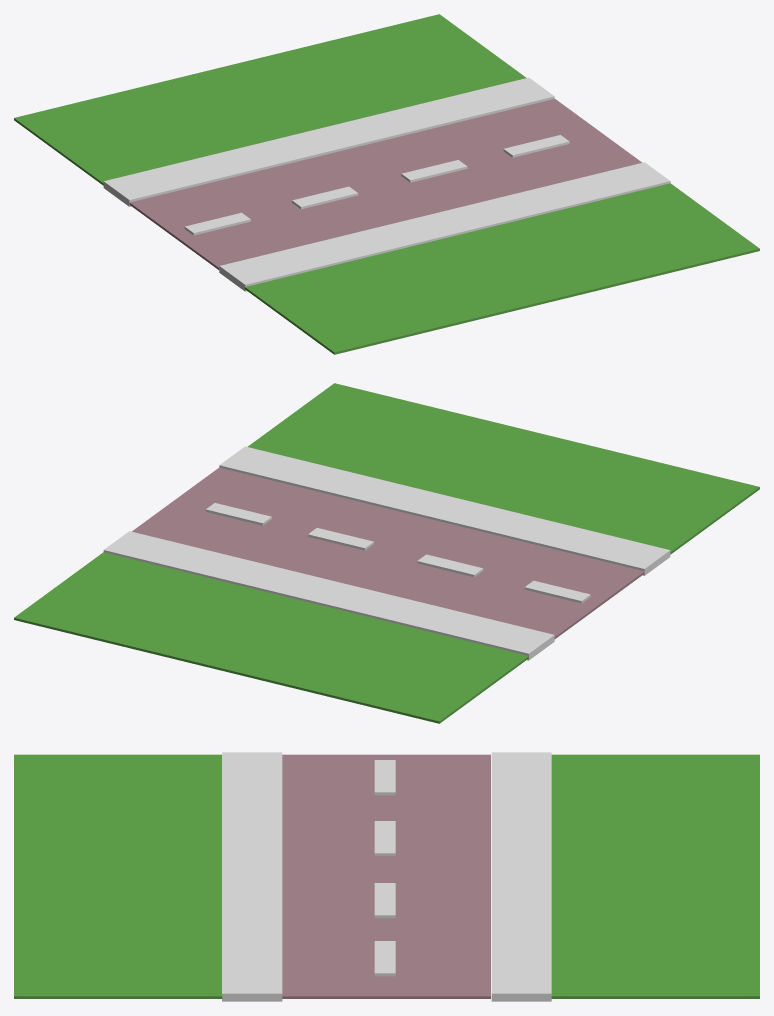
The model's file is road.fbx.
3 views of the same model, one above another, from view 1: azimuth 30°, elevation 25°; view 2: azimuth 150°, elevation 25°; view 3: azimuth 270°, elevation 25° (orthographic). The views are drawn at different scales.
Visible parts, largest first — view 1: Cube.016, Cube.015, Cube, Cube.009, Cube.010, Cube.014, Cube.001, Cube.011, Cube.013; view 2: Cube.015, Cube.016, Cube, Cube.010, Cube.009, Cube.013, Cube.001, Cube.011, Cube.014; view 3: Cube.015, Cube.016, Cube, Cube.009, Cube.010, Cube.013, Cube.014, Cube.001, Cube.011.
Part boxes in pixels (left/top/right/bottom): Cube.016: left=245, top=183, right=759, bottom=354; Cube.015: left=14, top=14, right=526, bottom=185; Cube: left=129, top=99, right=642, bottom=269; Cube.009: left=103, top=77, right=554, bottom=206; Cube.010: left=219, top=162, right=670, bottom=291; Cube.014: left=401, top=160, right=467, bottom=182; Cube.001: left=184, top=212, right=250, bottom=235; Cube.011: left=292, top=186, right=358, bottom=209; Cube.013: left=503, top=135, right=569, bottom=157; Cube.015: left=14, top=552, right=528, bottom=723; Cube.016: left=247, top=383, right=759, bottom=554; Cube: left=132, top=467, right=644, bottom=638; Cube.010: left=219, top=446, right=670, bottom=575; Cube.009: left=103, top=531, right=554, bottom=660; Cube.013: left=205, top=503, right=271, bottom=525; Cube.001: left=524, top=580, right=590, bottom=603; Cube.011: left=417, top=554, right=483, bottom=577; Cube.014: left=308, top=528, right=373, bottom=550; Cube.015: left=551, top=754, right=759, bottom=998; Cube.016: left=14, top=754, right=222, bottom=998; Cube: left=282, top=754, right=490, bottom=998; Cube.009: left=491, top=752, right=551, bottom=1001; Cube.010: left=222, top=752, right=282, bottom=1001; Cube.013: left=374, top=941, right=395, bottom=976; Cube.014: left=374, top=883, right=395, bottom=918; Cube.001: left=374, top=760, right=395, bottom=795; Cube.011: left=374, top=821, right=395, bottom=855.
Bounding box in the file's own units: 5427 × 88.7 × 7079.
